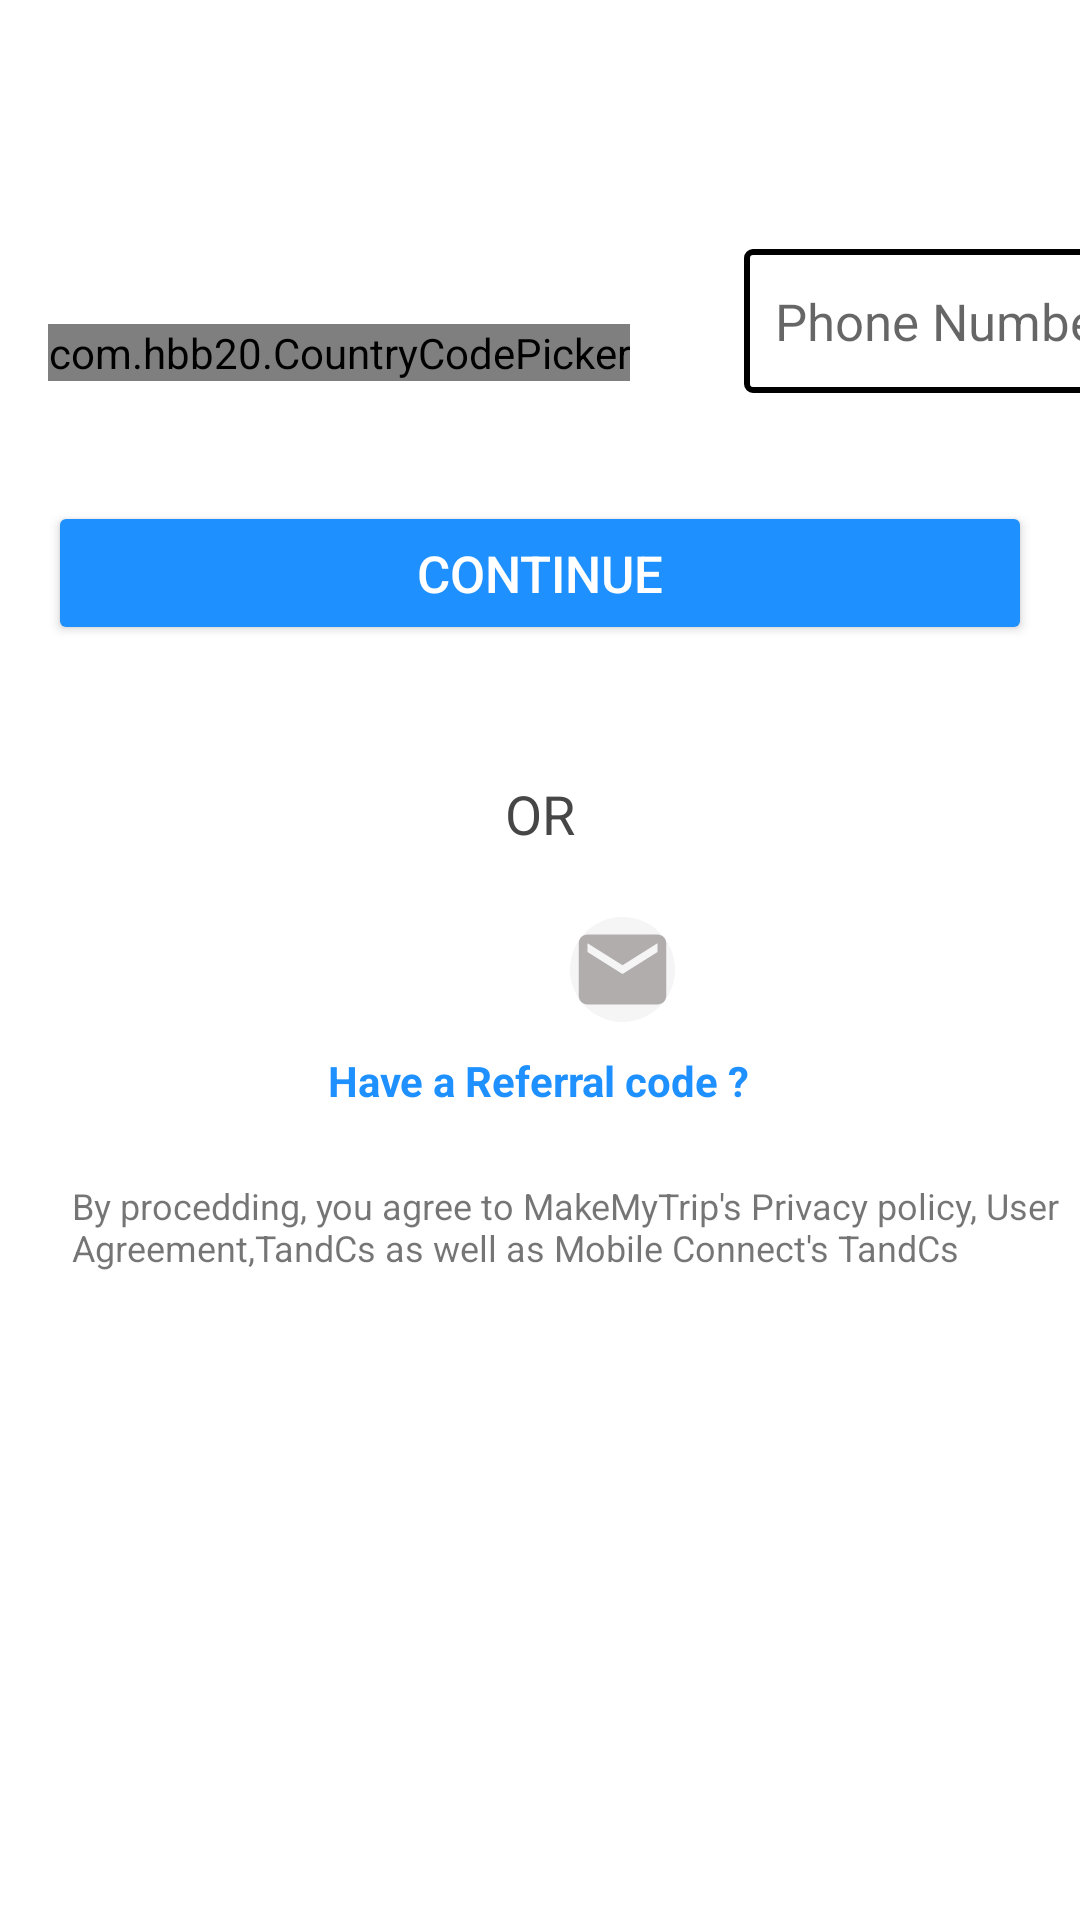

Where to tap for icons on this 1080*1920 app screen, as (x,y):
mail: (622,969)
